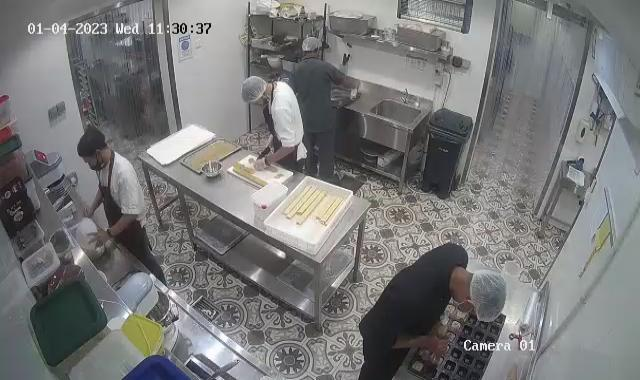hairnet: (466, 270, 506, 322), (241, 77, 271, 105), (301, 36, 323, 55)
no_hairnet: (74, 126, 109, 160)
